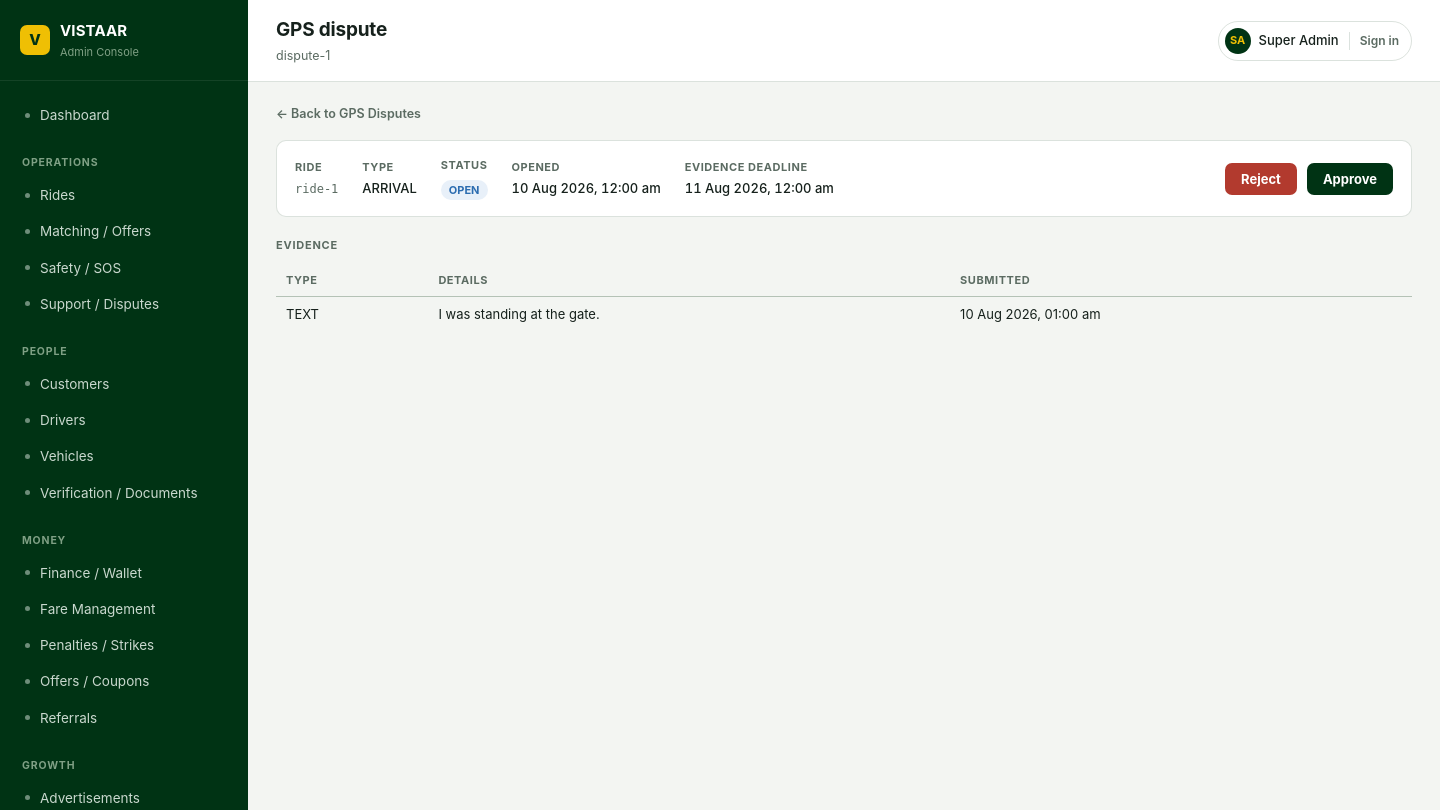
it: GpsDisputeDetailPage › requires a reason before Confirm approve is enabled, then approves
Click the button "Approve" at (1350, 178), box [1307,162,1393,194]
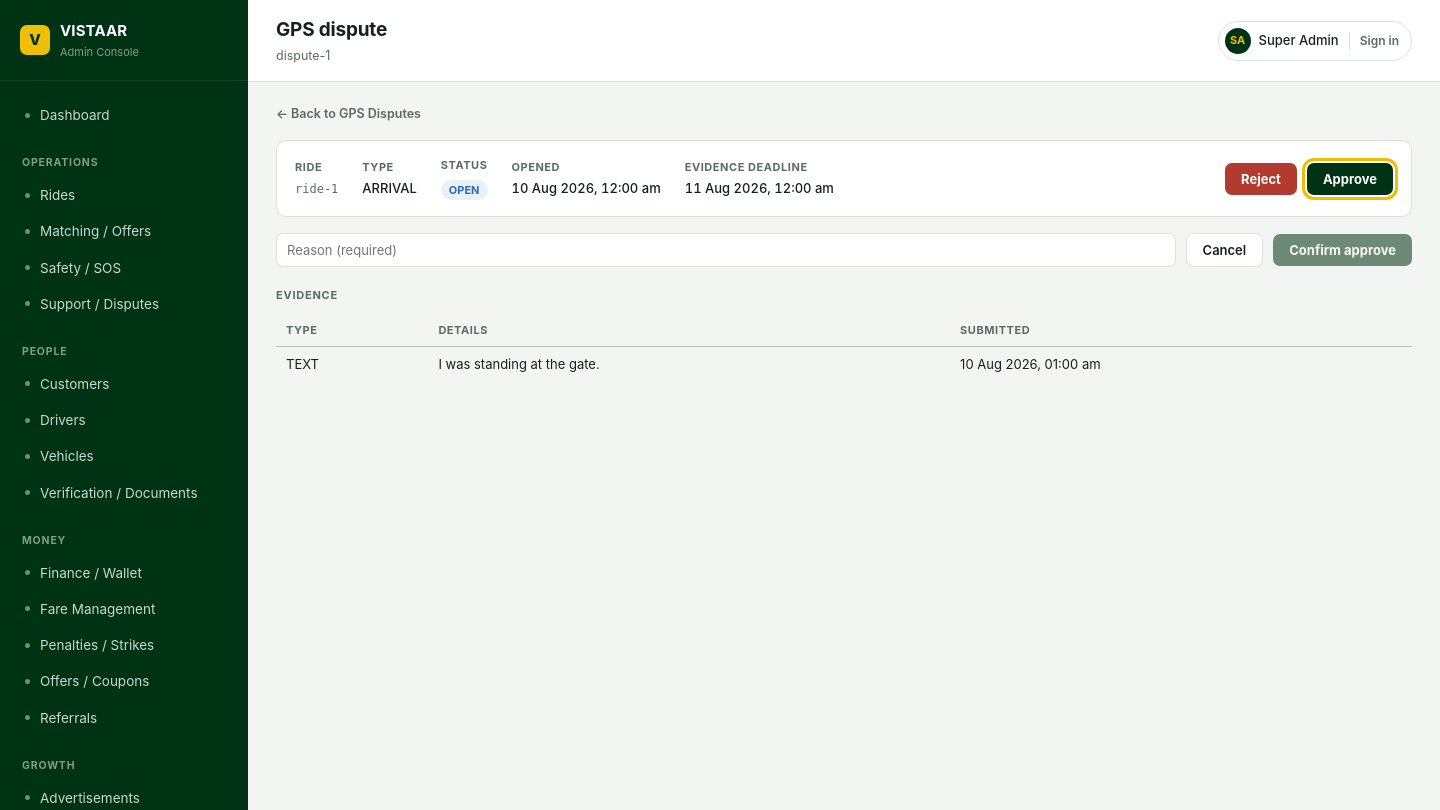
Check: the button "Confirm approve" is disabled, box [1273,234,1412,266]
Type "Evidence supports the driver's location." into the field named "Decision reason" at (726, 250), box [276,233,1176,267]
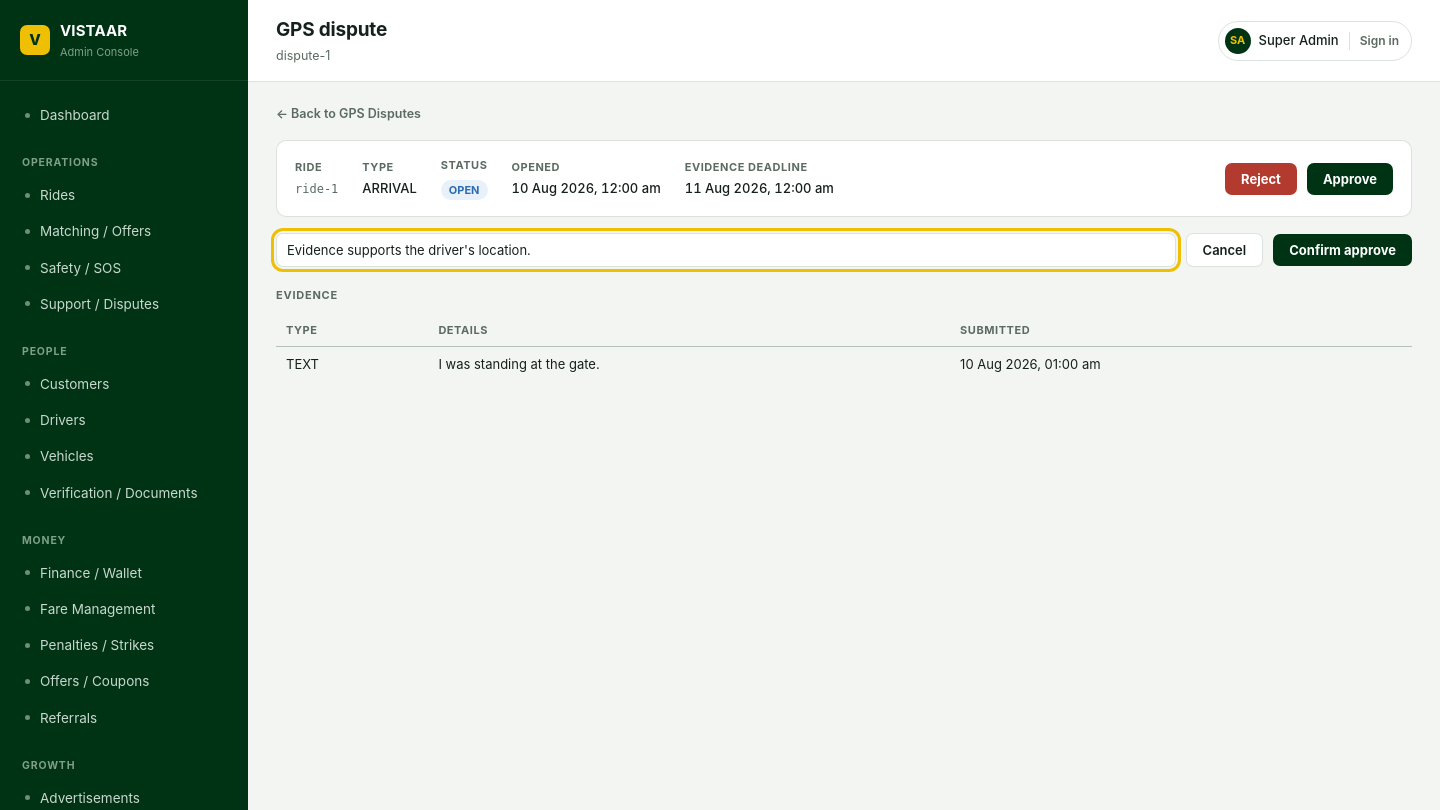
Click the button "Confirm approve" at (1343, 250), box [1273,234,1412,266]
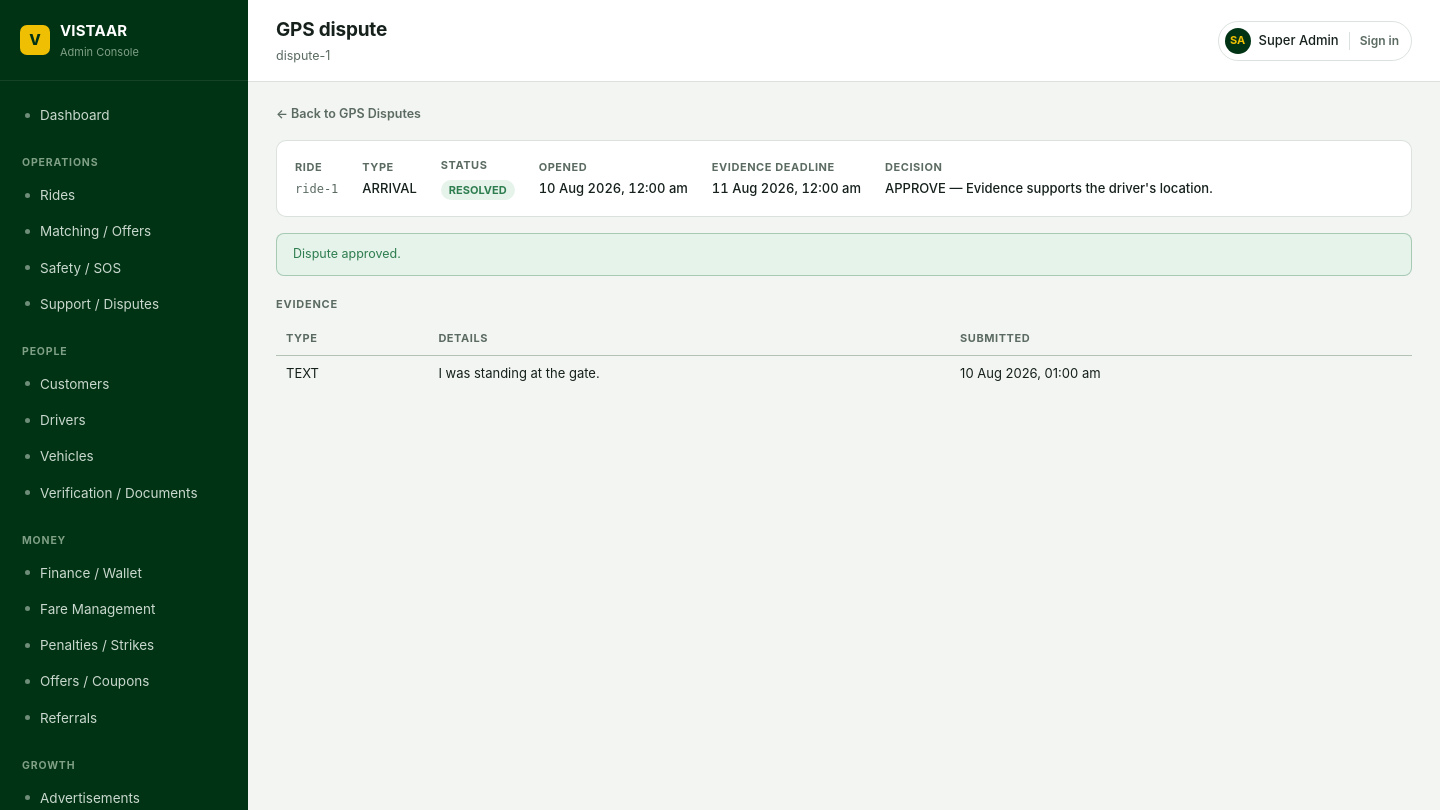
Check: the text "Dispute approved." is shown, box [276,233,1412,276]
